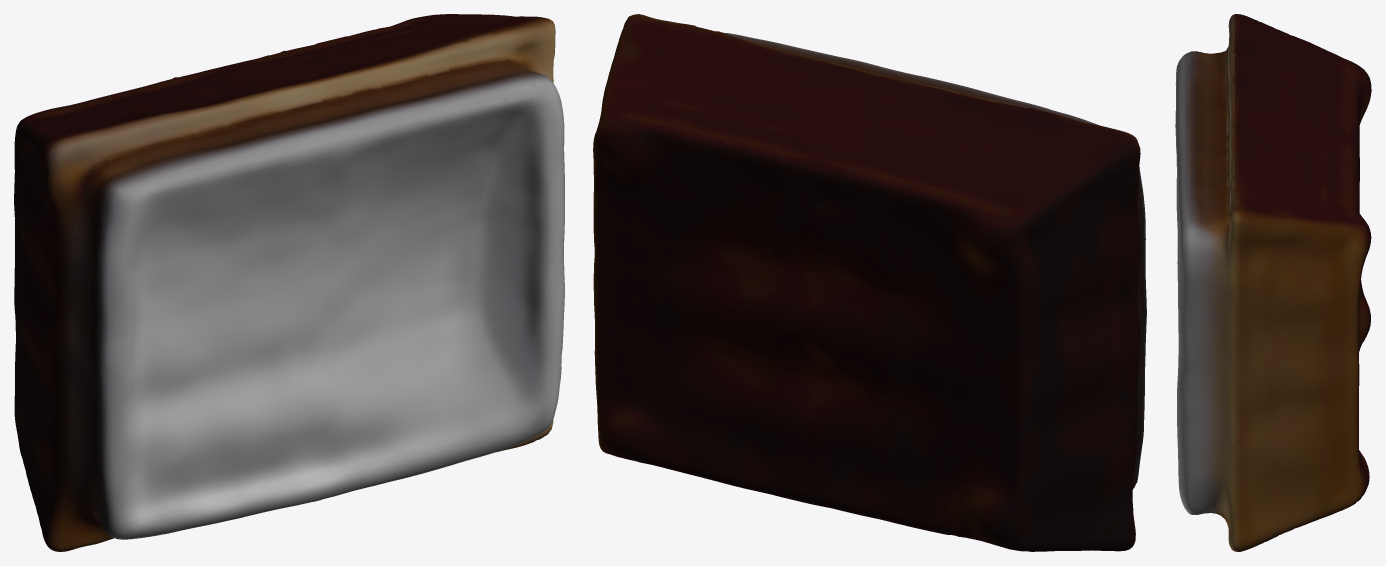
The model's file is soap.glb.
3 renders of one model, left to right at view 1: azimuth 30°, elevation 25°; view 2: azimuth 150°, elevation 25°; view 3: azimuth 270°, elevation 25°, orthographic. The views are drawn at different scales.
Size of the model in its own units: 0.9993 by 0.7858 by 0.4029.
